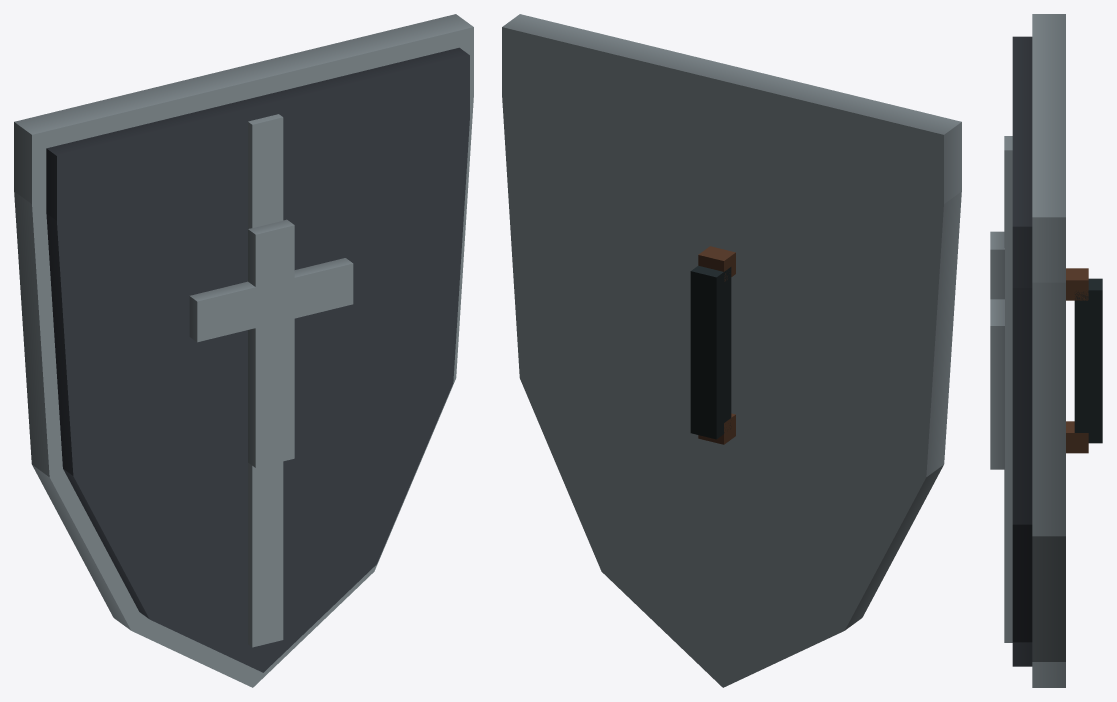
File: knight_off_1.gltf
3 views of the same model, side by side, from view 1: azimuth 30°, elevation 25°; view 2: azimuth 150°, elevation 25°; view 3: azimuth 270°, elevation 25° (orthographic). The views are drawn at different scales.
Parts seen in each view (by area): view 1: knight_off_1; view 2: knight_off_1; view 3: knight_off_1.
Part boxes in pixels (bbox=[...]): knight_off_1: bbox=[14, 14, 473, 687]; knight_off_1: bbox=[502, 14, 961, 687]; knight_off_1: bbox=[990, 14, 1102, 687].
Size of the model in its own units: 0.856 by 1.12 by 0.2.
Materials: 1 (1 with a texture image).
